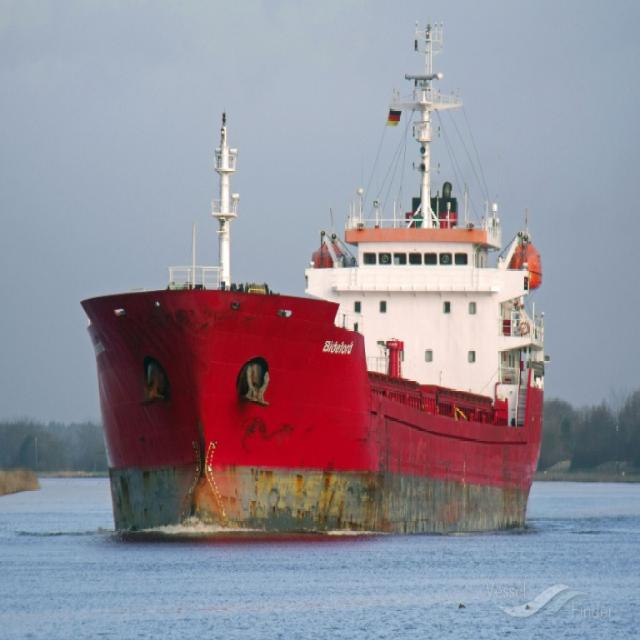OCR: (319, 336, 357, 360)
